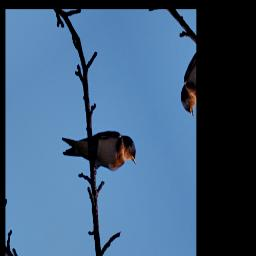Swallow: (58, 93, 141, 206)
